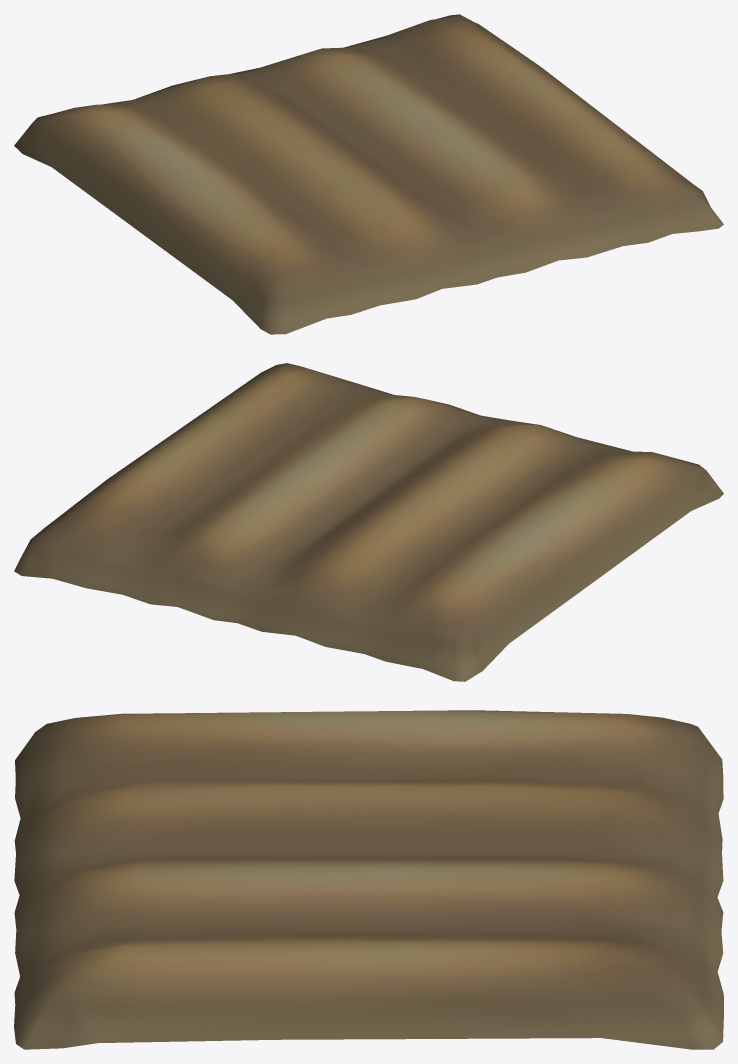
Rendered from SM_Crop_Wheat_04.glb.
The picture shows the model from 3 angles, top to bottom: view 1: azimuth 30°, elevation 25°; view 2: azimuth 150°, elevation 25°; view 3: azimuth 270°, elevation 25°; orthographic projection. The views are drawn at different scales.
Visible parts, largest first — view 1: SM_Crop_Wheat_04; view 2: SM_Crop_Wheat_04; view 3: SM_Crop_Wheat_04.
Part boxes in pixels (box(x1,y1,x2,y2)): SM_Crop_Wheat_04: box(14, 14, 723, 334); SM_Crop_Wheat_04: box(14, 363, 723, 681); SM_Crop_Wheat_04: box(14, 710, 723, 1049).
Bounding box in the file's own units: 3.94 × 0.4418 × 3.93.
Materials: 1 (1 with a texture image).
